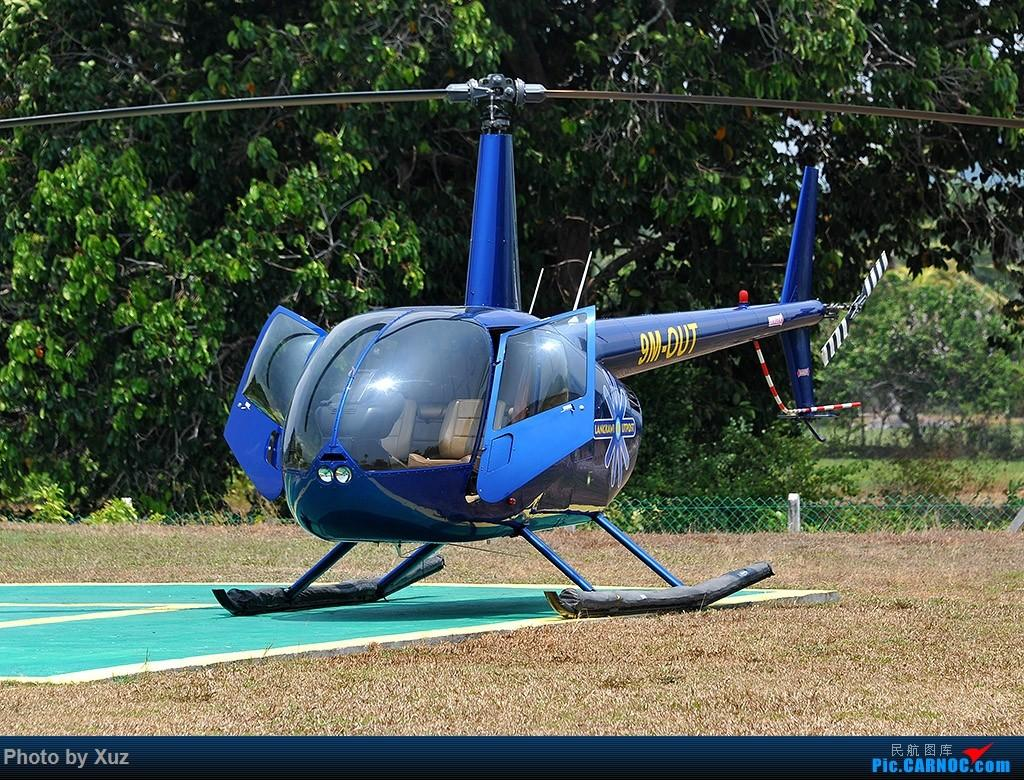airplane: (1, 72, 1024, 620)
